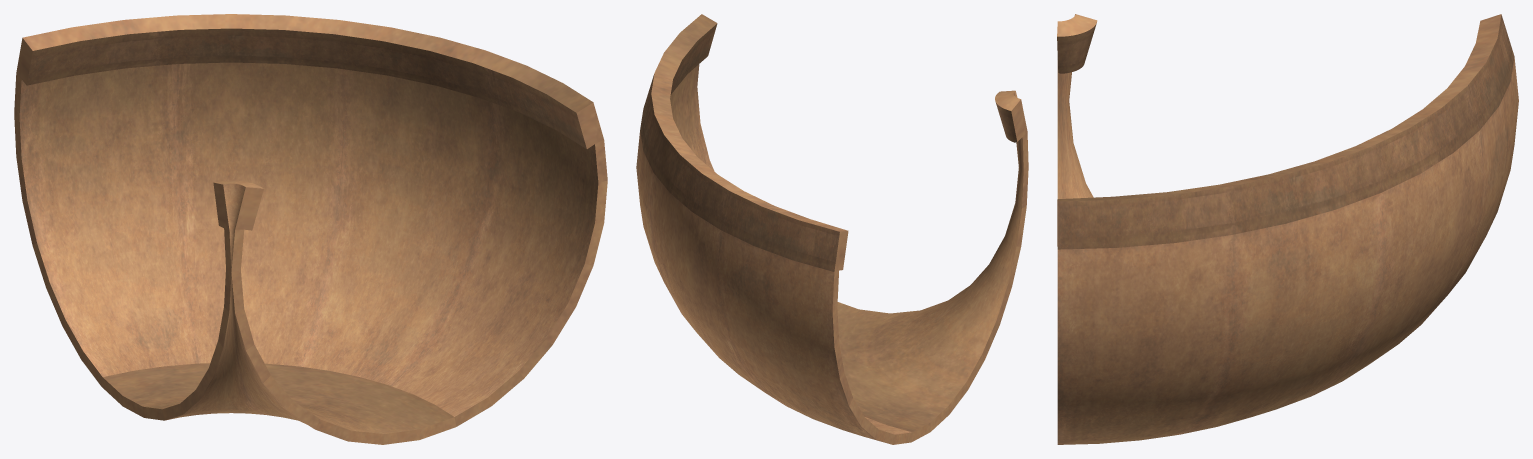
File: Small_Corner_A.fbx
3 views of the same model, side by side, from view 1: azimuth 30°, elevation 25°; view 2: azimuth 150°, elevation 25°; view 3: azimuth 270°, elevation 25° (orthographic). The views are drawn at different scales.
Parts seen in each view (by area): view 1: Small_Corner_A; view 2: Small_Corner_A; view 3: Small_Corner_A.
Boxes of the visible parts, x1,y1,x2,y2 form: Small_Corner_A: [14, 14, 607, 444]; Small_Corner_A: [636, 14, 1028, 444]; Small_Corner_A: [1057, 14, 1518, 444].
Bounding box in the file's own units: 4 × 3 × 4.01.
